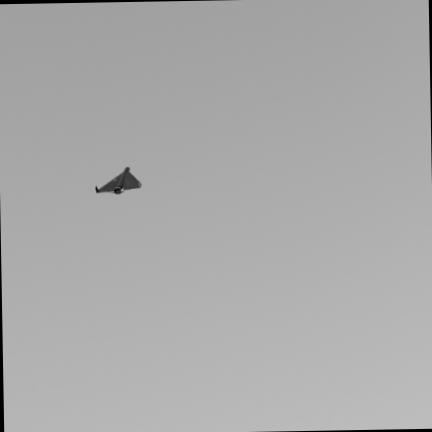Shahed: (95, 166, 140, 193)
